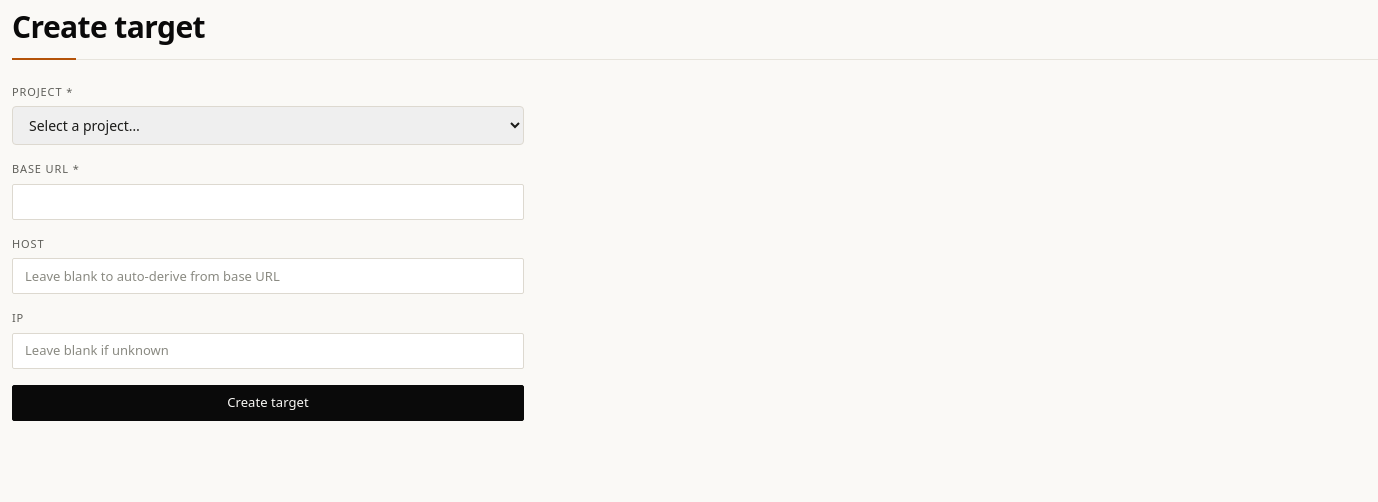
Test case: CreateTarget — server errors › renders a backend-unreachable banner on network failure
Select "Local Lab" in the dropdown labelled "Project *": (268, 126) [12, 106, 524, 145]
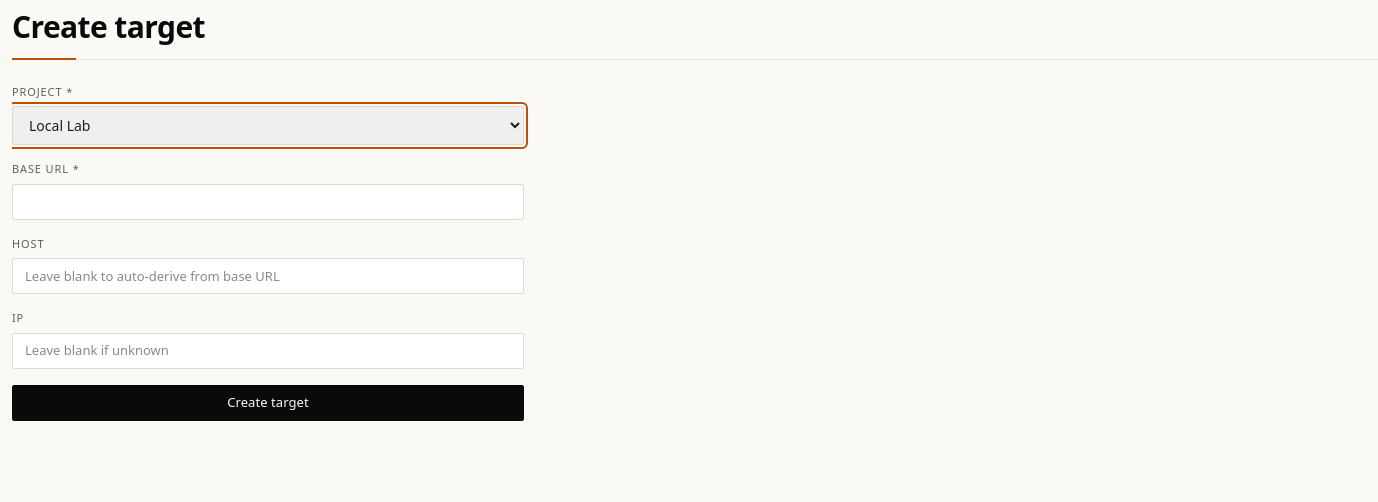
In the field labelled "Base URL *": (268, 202) [12, 184, 524, 220], type "https://dvwa.cocode.dk"
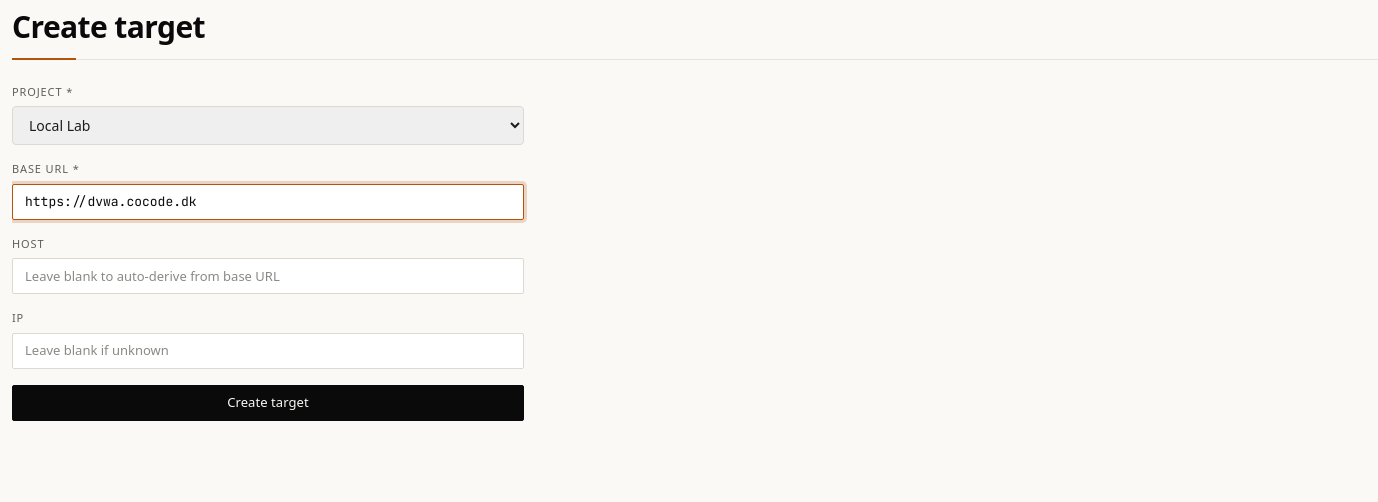
Click the button "Create target": click(268, 402) [12, 384, 524, 420]
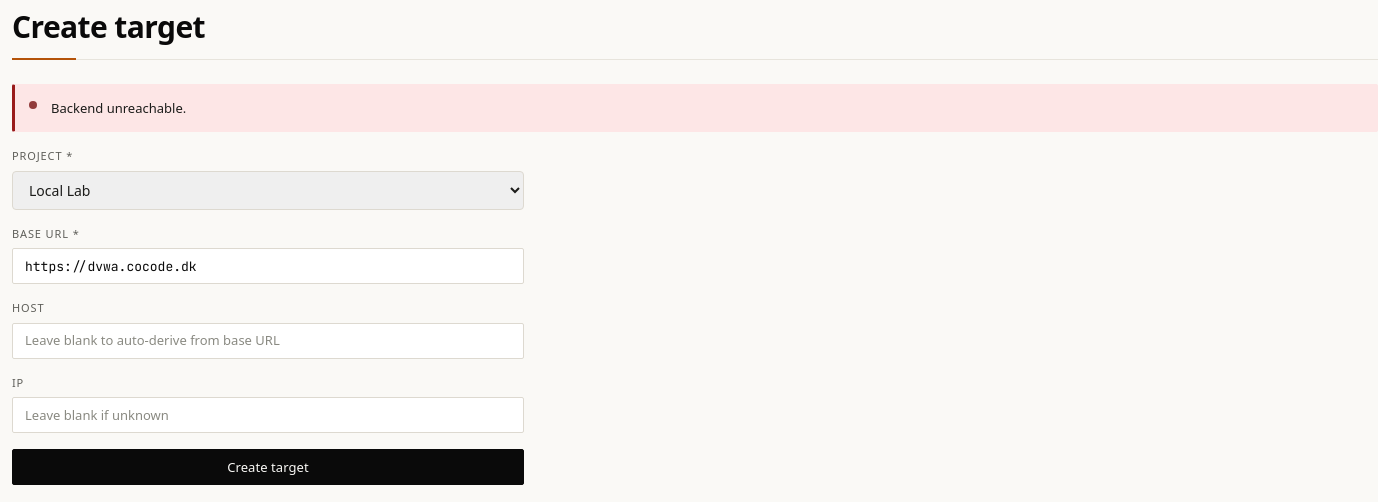
Expected: the text "Backend unreachable." is shown, [51, 98, 186, 116]
